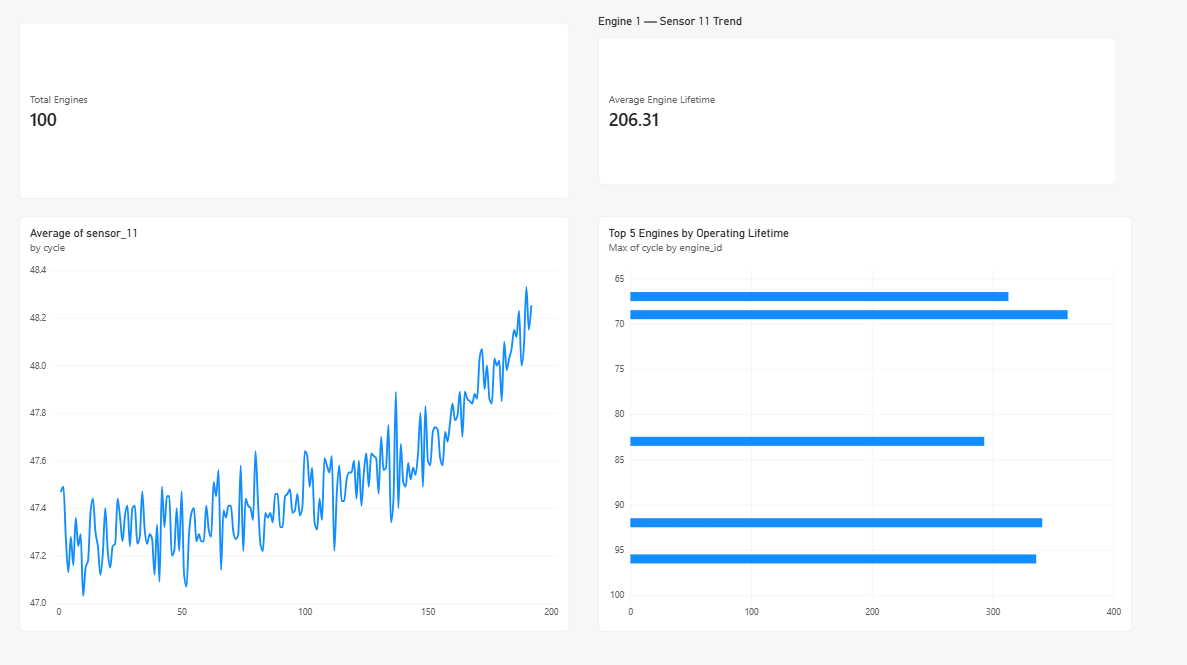

The dashboard page shown, as its layout file describes it:
{"tool":"powerbi","page":{"name":"Page 1","canvas":[1920,1080],"ordinal":0},"visuals":[{"type":"cardVisual","fields":{"Data":["engine_sensor_data.Total Engines"]},"box":[34,46,880,282],"z":0},{"type":"cardVisual","title":"Engine 1 — Sensor 11 Trend","fields":{"Data":["engine_sensor_data.Average Engine Lifetime"]},"box":[960,32,828,274],"z":1},{"type":"lineChart","fields":{"Category":["engine_sensor_data.cycle"],"Y":["Avg(engine_sensor_data.sensor_11)"]},"box":[34,356,880,664],"z":2},{"type":"clusteredBarChart","title":"Top 5 Engines by Operating Lifetime","fields":{"Category":["engine_sensor_data.engine_id"],"Y":["Max(engine_sensor_data.cycle)"]},"box":[960,356,854,664],"z":3}]}

Visuals, with their boxes in screenshot pixels (x1, y1, x2, y2), scaled from the page's 1920x1080 canvas onto the 1187x665 screenshot:
cardVisual - engine_sensor_data.Total Engines: region(21, 28, 565, 202)
"Engine 1 — Sensor 11 Trend" cardVisual: region(594, 20, 1105, 188)
lineChart - engine_sensor_data.cycle x Avg(engine_sensor_data.sensor_11): region(21, 219, 565, 628)
"Top 5 Engines by Operating Lifetime" clusteredBarChart: region(594, 219, 1121, 628)
